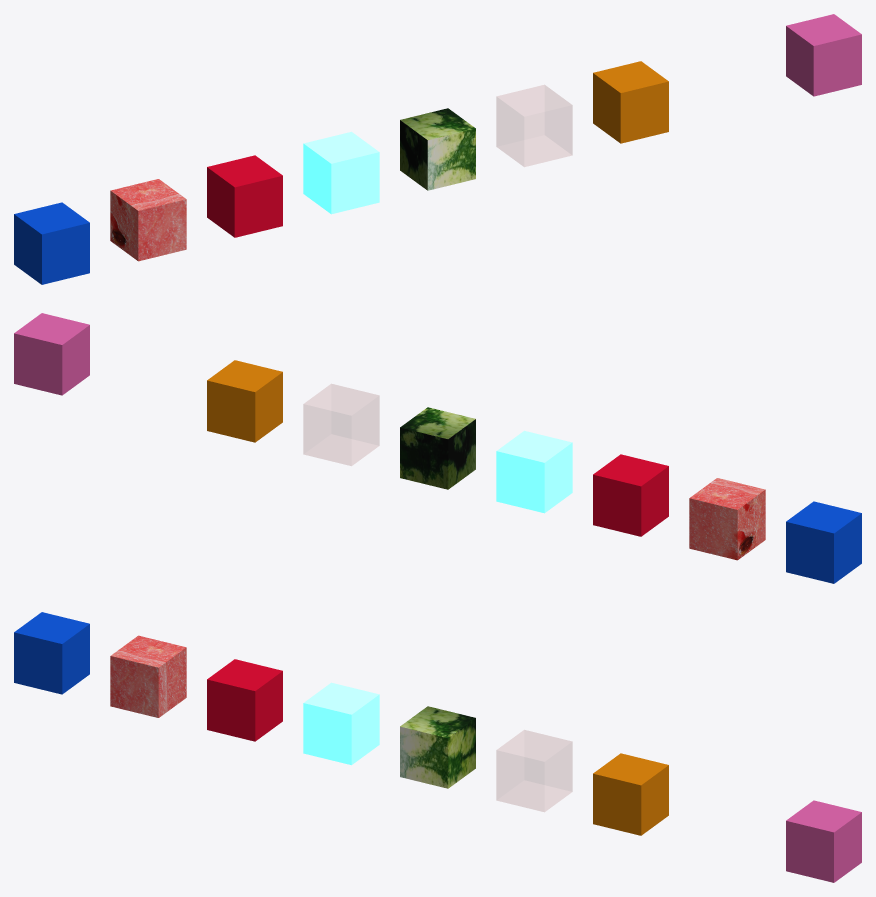
The model's file is materials_materials_library.glb.
The picture shows the model from 3 angles, top to bottom: view 1: azimuth 30°, elevation 25°; view 2: azimuth 150°, elevation 25°; view 3: azimuth 330°, elevation 25°; orthographic projection.
Visible parts, largest first — view 1: Material_Watermelon_inner, Material_Glowy, Material_Env_blue, Material_Material.001, Material_Env_orange, Material_MaterialInBlueprintOnly, Material_Watermelon_outer, Material_Sensor_material; view 2: Material_Watermelon_inner, Material_Glowy, Material_Env_blue, Material_Material.001, Material_Env_orange, Material_MaterialInBlueprintOnly, Material_Watermelon_outer, Material_Sensor_material; view 3: Material_Watermelon_inner, Material_Glowy, Material_Env_blue, Material_Material.001, Material_Env_orange, Material_MaterialInBlueprintOnly, Material_Watermelon_outer, Material_Sensor_material.
Part boxes in pixels (left/top/right/bottom): Material_Watermelon_inner: left=110, top=179, right=186, bottom=261; Material_Glowy: left=303, top=131, right=379, bottom=214; Material_Env_blue: left=14, top=202, right=89, bottom=284; Material_Material.001: left=207, top=155, right=282, bottom=237; Material_Env_orange: left=593, top=61, right=668, bottom=143; Material_MaterialInBlueprintOnly: left=786, top=14, right=861, bottom=96; Material_Watermelon_outer: left=400, top=108, right=475, bottom=190; Material_Sensor_material: left=496, top=85, right=572, bottom=166; Material_Watermelon_inner: left=689, top=478, right=765, bottom=560; Material_Glowy: left=496, top=430, right=572, bottom=513; Material_Env_blue: left=786, top=501, right=861, bottom=583; Material_Material.001: left=593, top=454, right=668, bottom=536; Material_Env_orange: left=207, top=360, right=282, bottom=442; Material_MaterialInBlueprintOnly: left=14, top=313, right=89, bottom=395; Material_Watermelon_outer: left=400, top=407, right=475, bottom=489; Material_Sensor_material: left=303, top=384, right=379, bottom=465; Material_Watermelon_inner: left=110, top=635, right=186, bottom=717; Material_Glowy: left=303, top=682, right=379, bottom=765; Material_Env_blue: left=14, top=612, right=89, bottom=694; Material_Material.001: left=207, top=659, right=282, bottom=741; Material_Env_orange: left=593, top=753, right=668, bottom=835; Material_MaterialInBlueprintOnly: left=786, top=800, right=861, bottom=882; Material_Watermelon_outer: left=400, top=706, right=475, bottom=788; Material_Sensor_material: left=496, top=730, right=572, bottom=811.
Size of what is drawn, in the model's own units: 1.7 by 0.1 by 0.1.
Materials: 8 (2 with a texture image).
